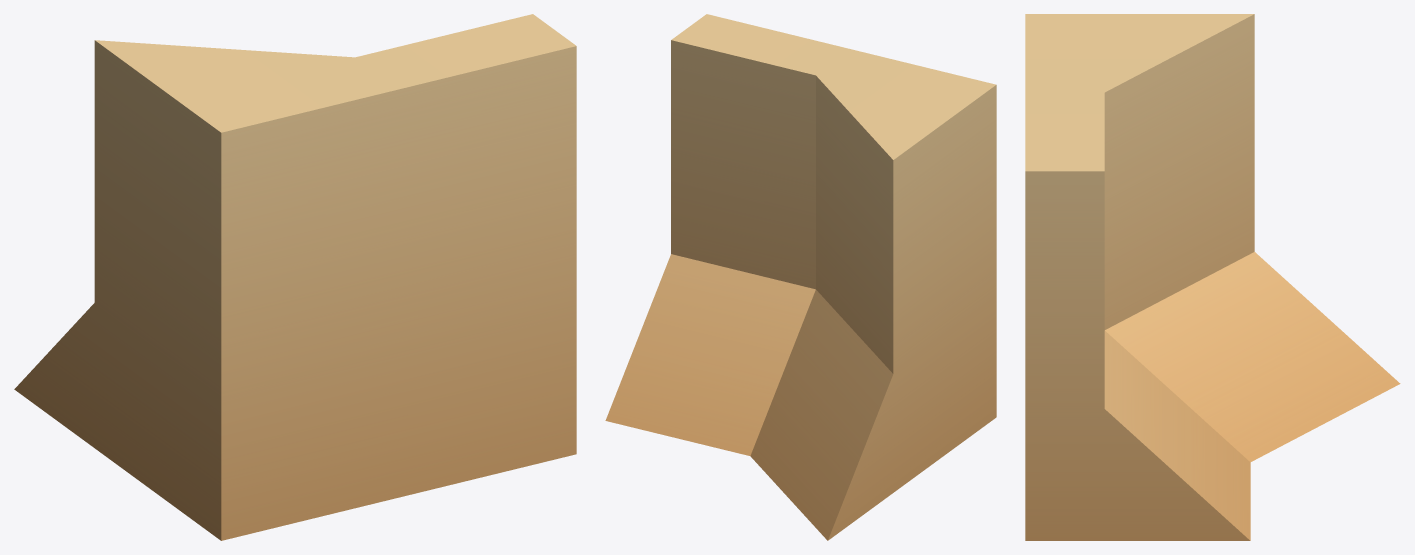
Rendered from corridor_to_bridge_corner_mirrored.fbx.
3 renders of one model, left to right at view 1: azimuth 30°, elevation 25°; view 2: azimuth 150°, elevation 25°; view 3: azimuth 270°, elevation 25°, orthographic. The views are drawn at different scales.
Parts seen in each view (by area): view 1: corridor.to.bridge.corner.mirrored; view 2: corridor.to.bridge.corner.mirrored; view 3: corridor.to.bridge.corner.mirrored.
Boxes of the visible parts, x1,y1,x2,y2 form: corridor.to.bridge.corner.mirrored: (14, 14, 576, 540); corridor.to.bridge.corner.mirrored: (605, 14, 996, 540); corridor.to.bridge.corner.mirrored: (1025, 14, 1400, 540).
Bounding box in the file's own units: 24.79 × 27.2 × 25.01.
